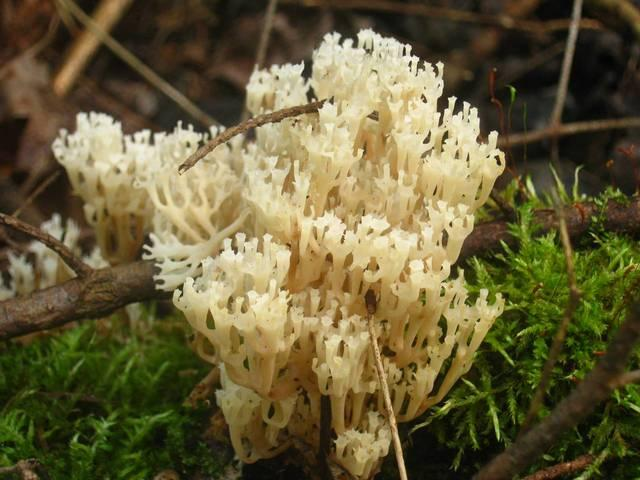edible_mushroom: (139, 26, 508, 478)
